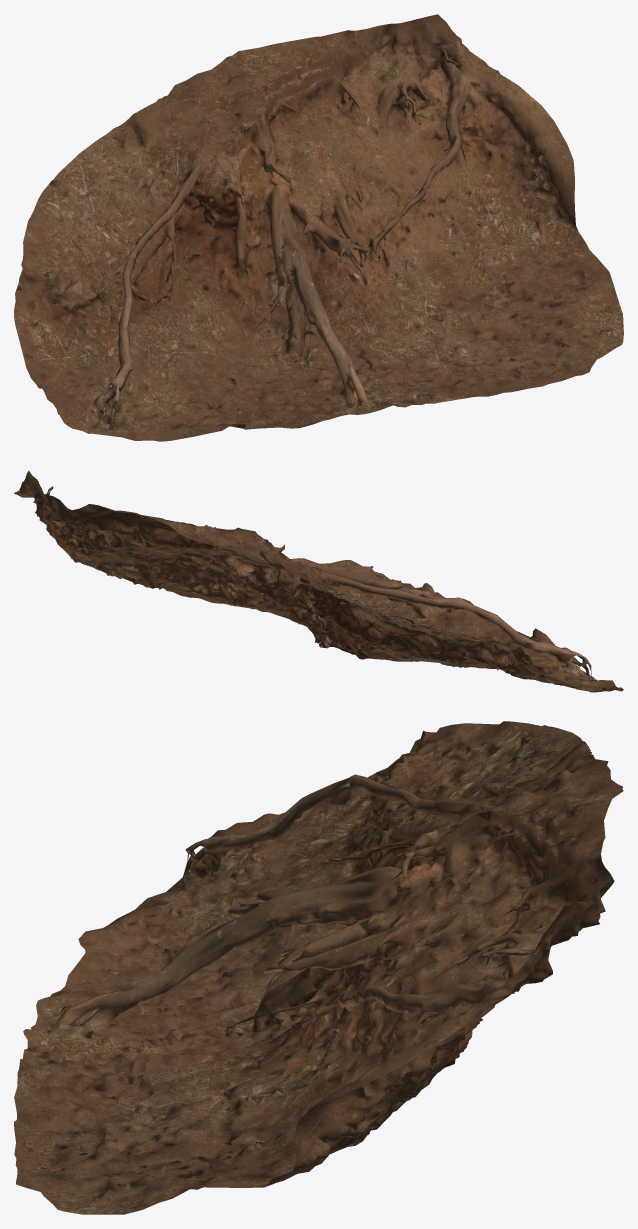
The model's file is root_cluster_01.glb.
3 views of the same model, one above another, from view 1: azimuth 30°, elevation 25°; view 2: azimuth 150°, elevation 25°; view 3: azimuth 270°, elevation 25° (orthographic). The views are drawn at different scales.
Visible parts, largest first — view 1: root_cluster_01; view 2: root_cluster_01; view 3: root_cluster_01.
Part boxes in pixels (bbox=[...]): root_cluster_01: bbox=[14, 14, 623, 441]; root_cluster_01: bbox=[14, 470, 623, 692]; root_cluster_01: bbox=[14, 721, 623, 1214].
Bounding box in the file's own units: 4.12 × 1.51 × 2.68.
1 material, 1 textured.
